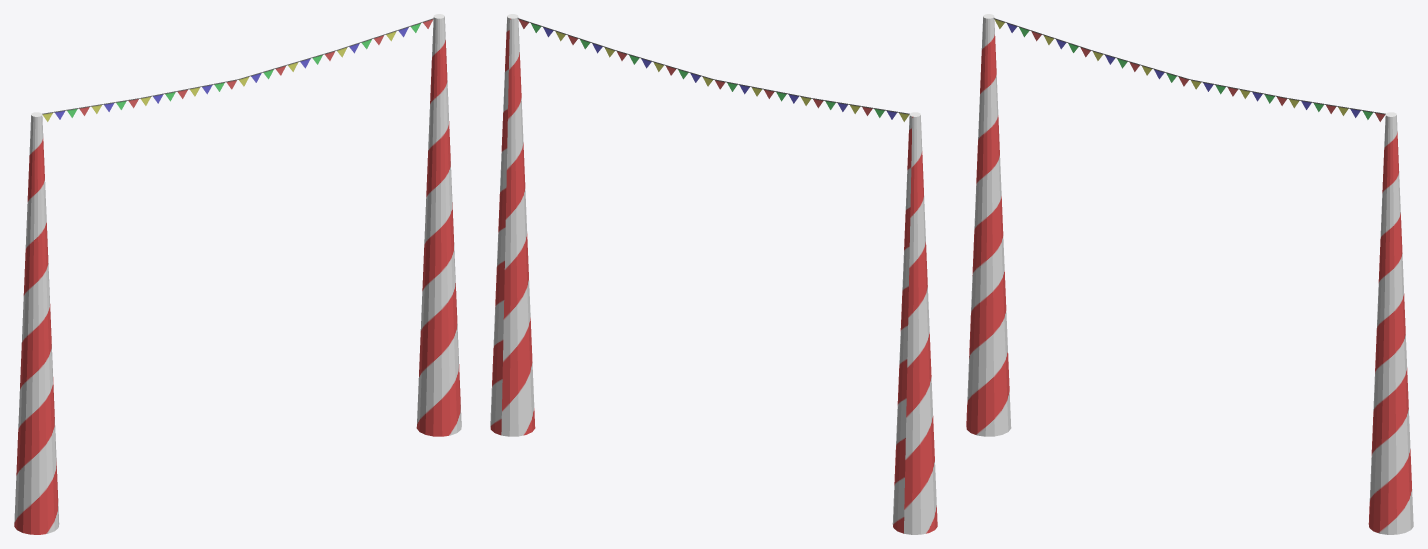
The model's file is String_Flags_1-2.fbx.
3 views of the same model, side by side, from view 1: azimuth 30°, elevation 25°; view 2: azimuth 150°, elevation 25°; view 3: azimuth 330°, elevation 25° (orthographic).
Visible parts, largest first — view 1: String_Flags_1-2; view 2: String_Flags_1-2; view 3: String_Flags_1-2.
Boxes of the visible parts, x1,y1,x2,y2 form: String_Flags_1-2: [14, 14, 461, 534]; String_Flags_1-2: [490, 14, 937, 534]; String_Flags_1-2: [966, 14, 1413, 534].
Bounding box in the file's own units: 450 × 400 × 40.
Materials: 2 (2 with a texture image).
